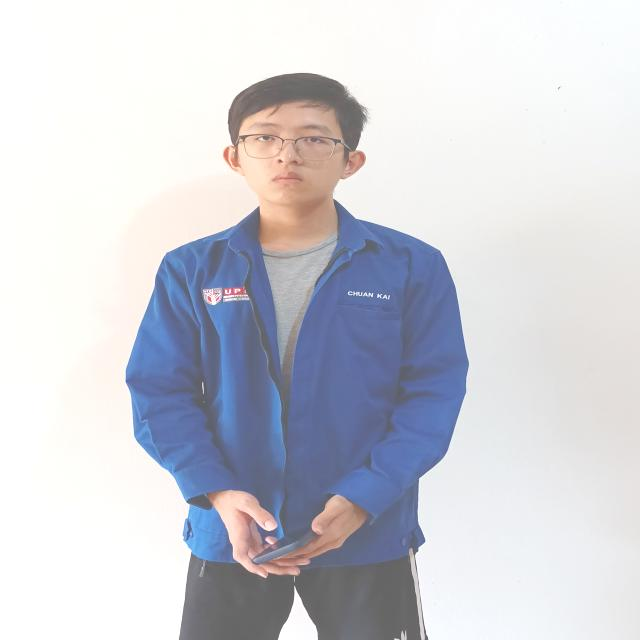person_with_labcoat: (126, 73, 468, 640)
